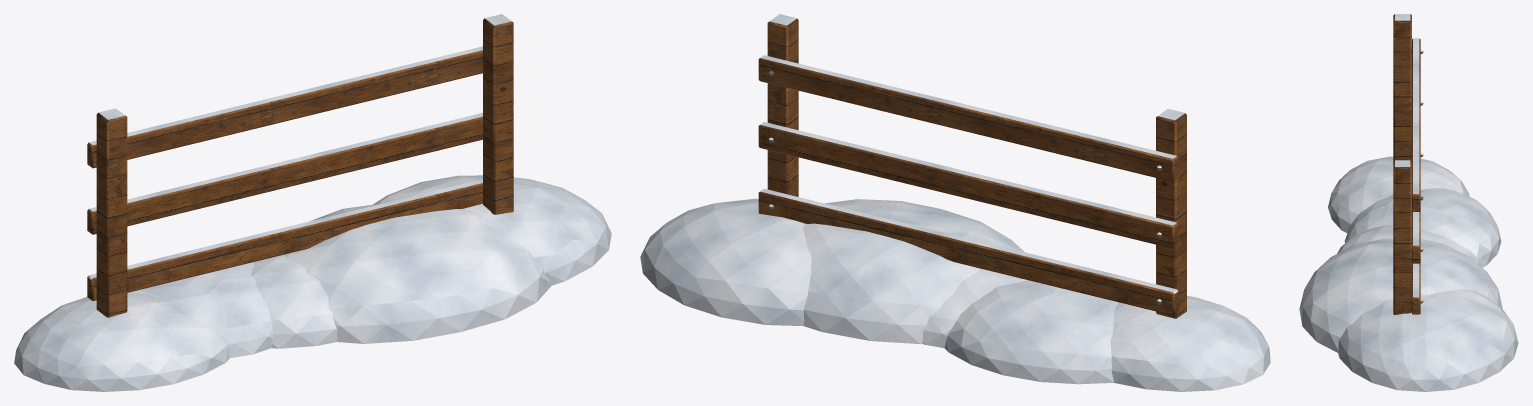
Rendered from buried-fence-v01.glb.
3 renders of one model, left to right at view 1: azimuth 30°, elevation 25°; view 2: azimuth 150°, elevation 25°; view 3: azimuth 270°, elevation 25°, orthographic. The views are drawn at different scales.
Parts seen in each view (by area): view 1: buried-fence; view 2: buried-fence; view 3: buried-fence.
Part boxes in pixels (x1,y1,x2,y2): buried-fence: (14, 14, 611, 391); buried-fence: (640, 14, 1270, 391); buried-fence: (1299, 14, 1518, 391).
Bounding box in the file's own units: 4.28 × 1.65 × 1.77.
3 materials, 2 textured.
